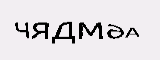А: (126, 24, 139, 38)
Д: (51, 18, 77, 45)
М: (78, 18, 105, 42)
Ч: (12, 18, 30, 38)
Я: (31, 20, 50, 42)
Ә: (107, 21, 122, 40)
